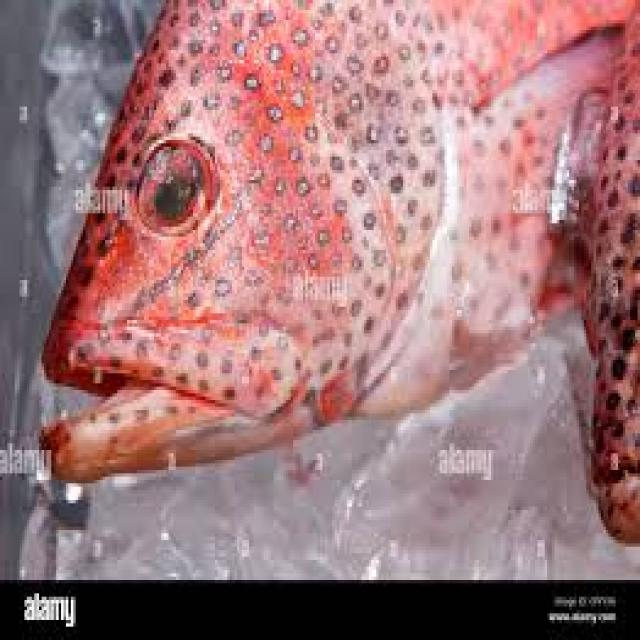Plectropomus-leopardus: (40, 6, 640, 497)
